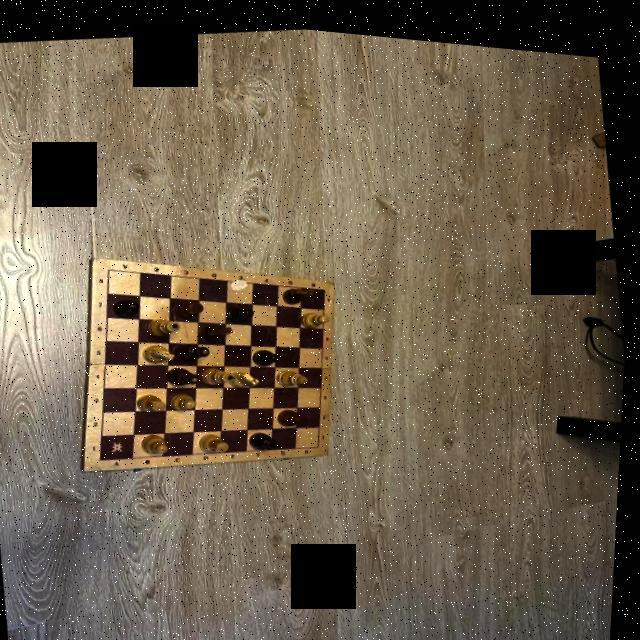chess-table-corners: (320, 436, 324, 441), (109, 264, 114, 268), (104, 454, 108, 458), (326, 280, 329, 284)
